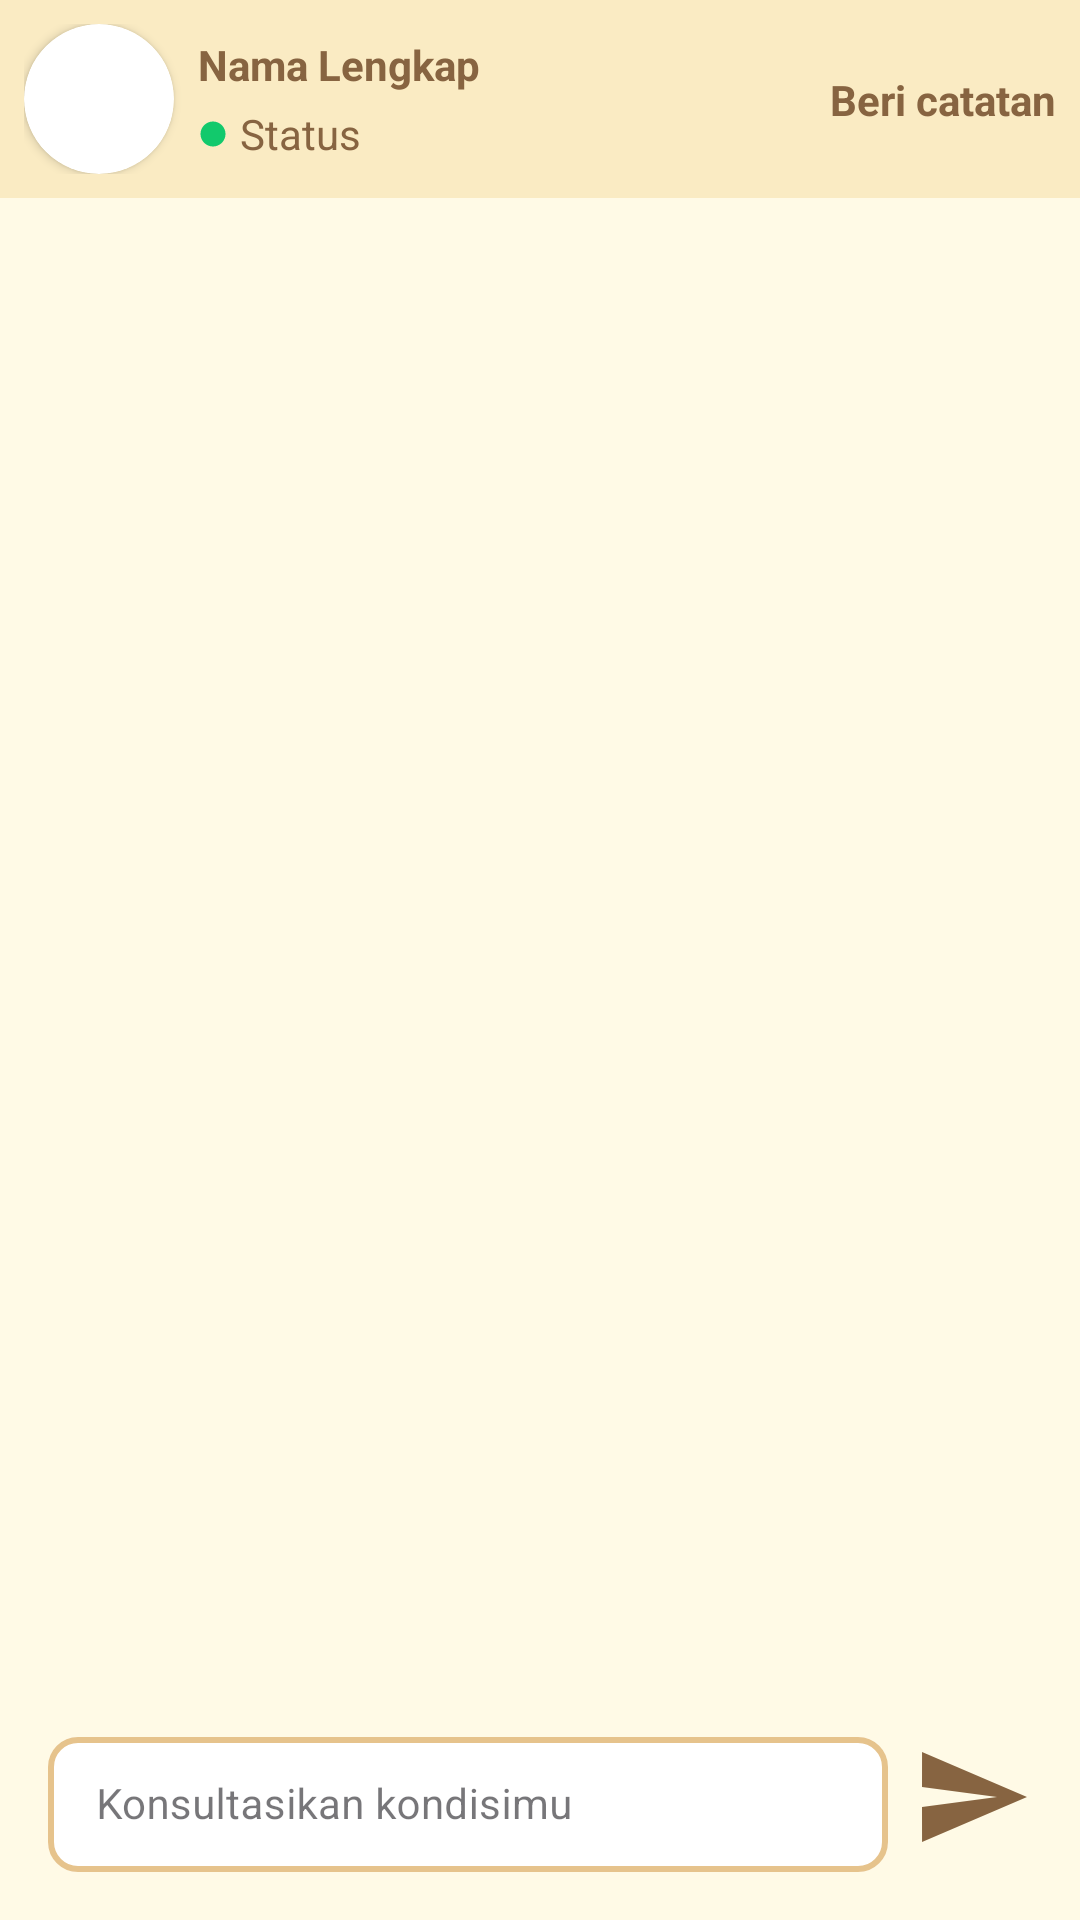

Screen size 1080px x 1920px. Icon name, then its box in pixels as box(x1, y1, x2, y2):
send: box(922, 1752, 1027, 1842)
